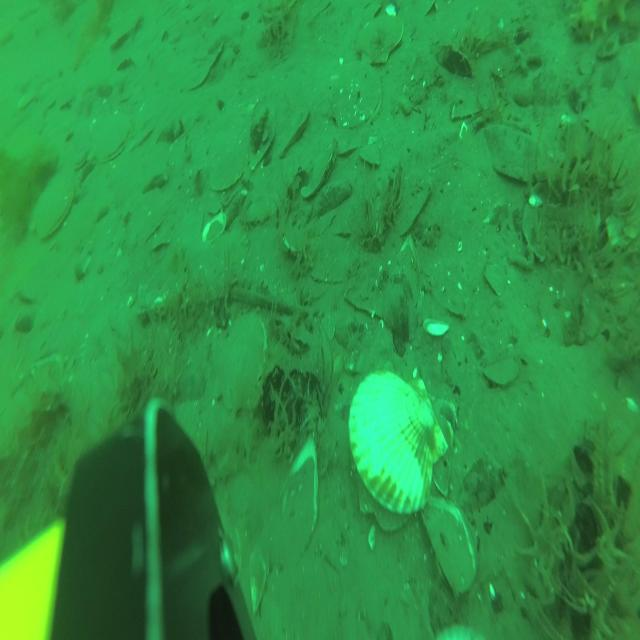scallop: (348, 364, 449, 519), (213, 314, 267, 417), (331, 63, 384, 130), (28, 180, 76, 240), (354, 14, 405, 69), (89, 112, 132, 168), (299, 140, 336, 202), (208, 135, 246, 193), (481, 352, 521, 392), (276, 108, 310, 154), (334, 128, 356, 158), (358, 140, 383, 165)
